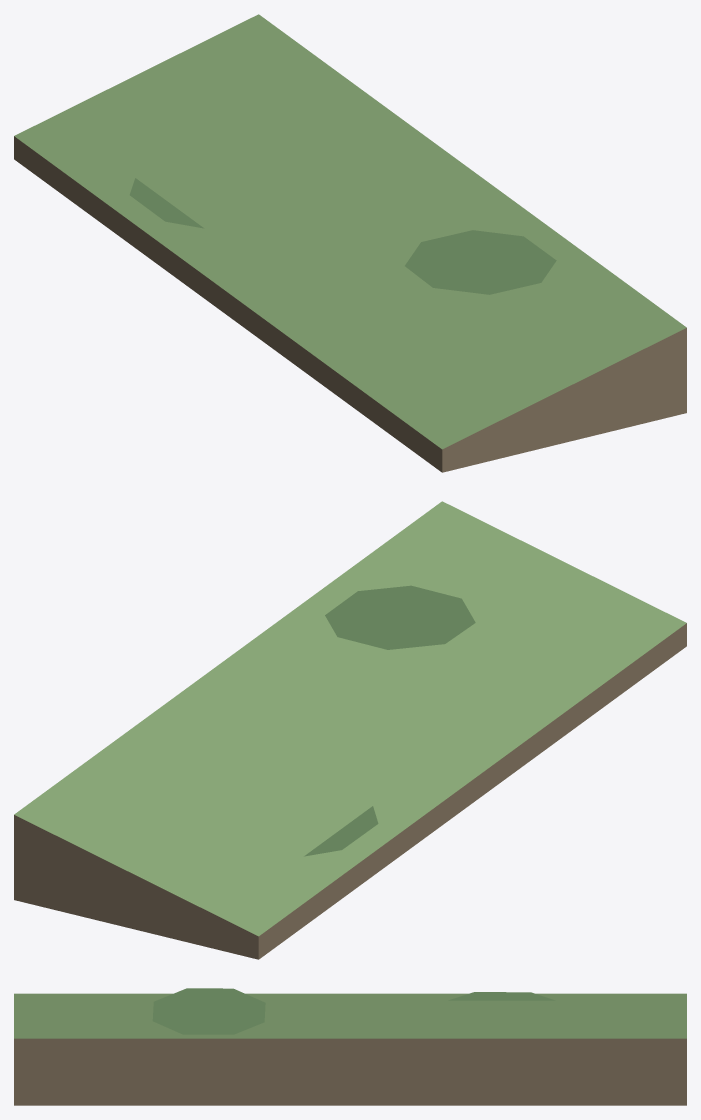
The model's file is edge_mossy_bank_2m.glb.
3 renders of one model, top to bottom at view 1: azimuth 30°, elevation 25°; view 2: azimuth 150°, elevation 25°; view 3: azimuth 270°, elevation 25°, orthographic. The views are drawn at different scales.
Visible parts, largest first — view 1: edge_mossy_bank_2m; view 2: edge_mossy_bank_2m; view 3: edge_mossy_bank_2m.
Boxes of the visible parts, x1,y1,x2,y2 form: edge_mossy_bank_2m: (14, 14, 686, 472); edge_mossy_bank_2m: (14, 501, 686, 959); edge_mossy_bank_2m: (14, 988, 686, 1105).
Size of the model in its own units: 0.66 by 0.22 by 2.
